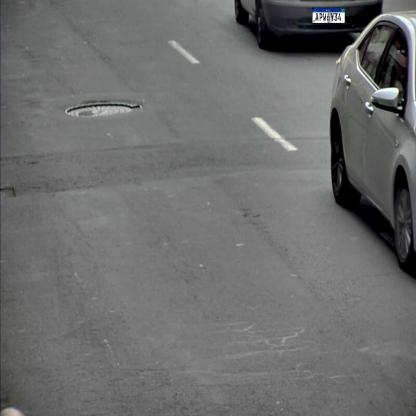PlacaM: (312, 7, 345, 24)
